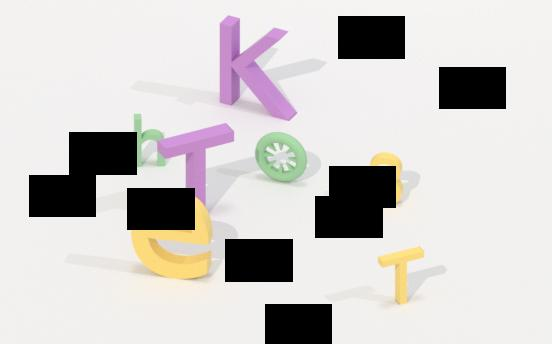8: (364, 149, 407, 210)
e: (129, 190, 218, 282)
h: (132, 111, 168, 170)
k: (209, 14, 303, 124)
t-hoa: (156, 123, 243, 219), (372, 245, 432, 305)
tron: (252, 130, 312, 185)
